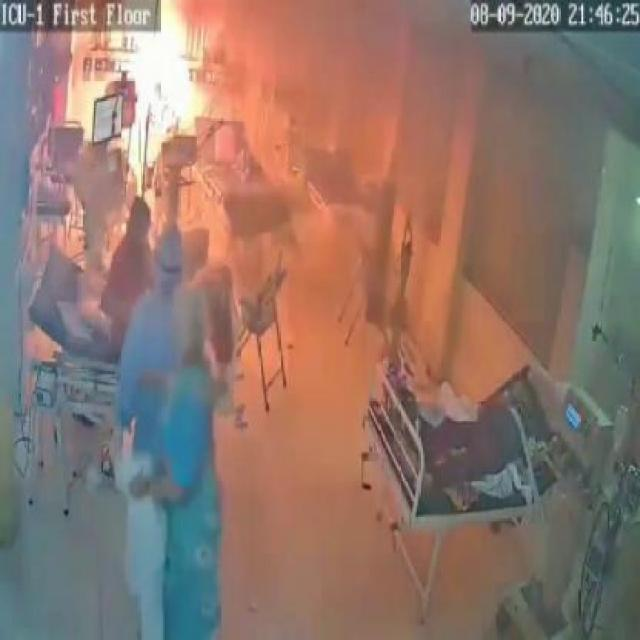fire: (117, 7, 211, 160)
smoke: (230, 0, 604, 212)
